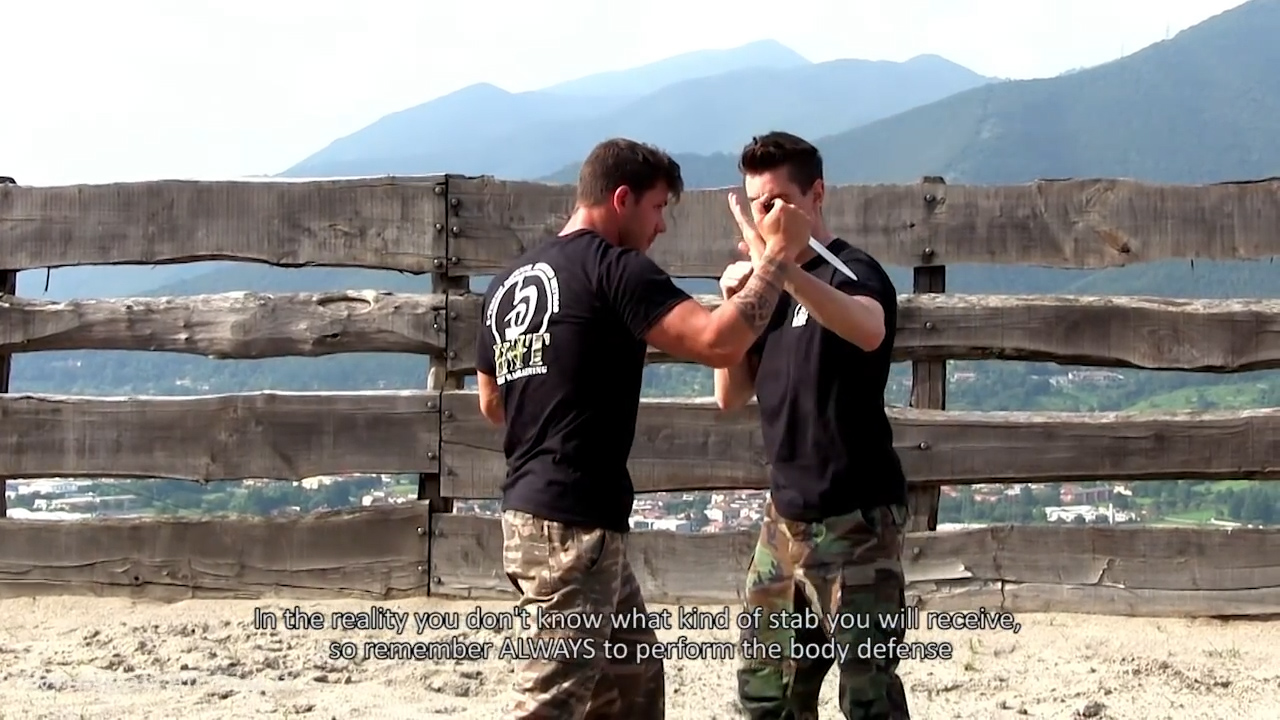knife: (751, 191, 863, 288)
